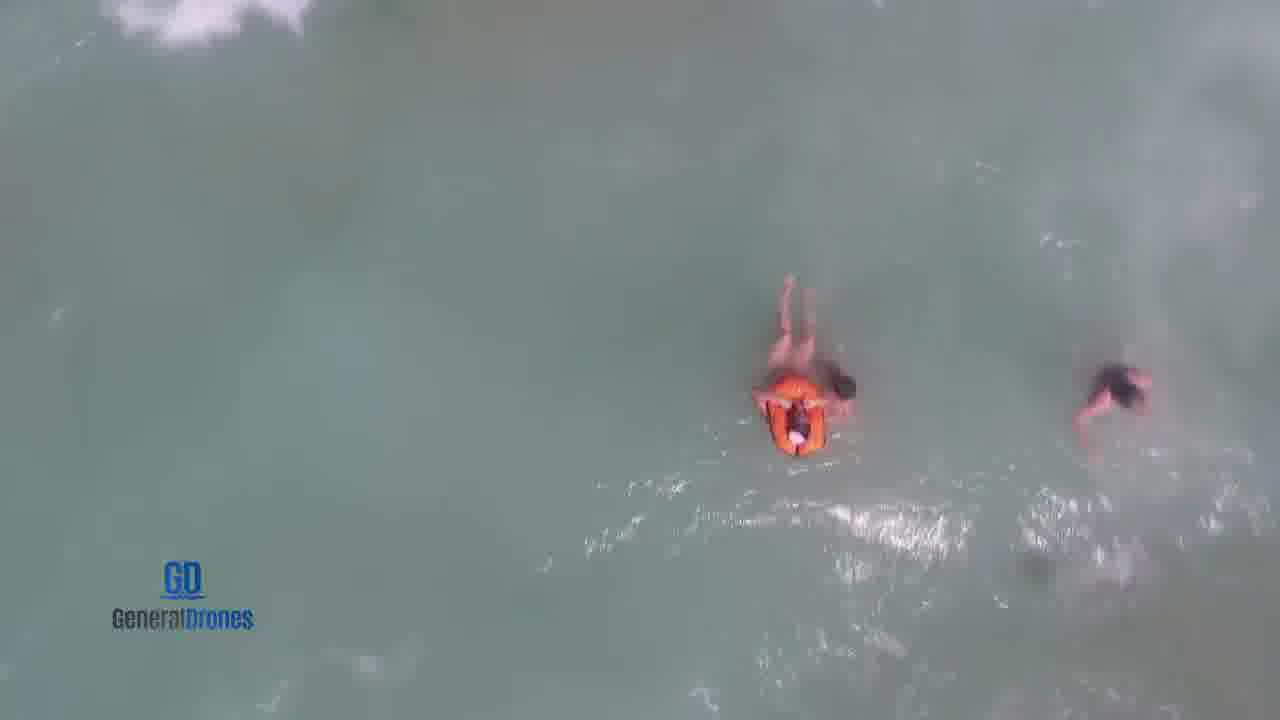human: (764, 263, 832, 442), (1074, 350, 1161, 442), (813, 356, 874, 419)
